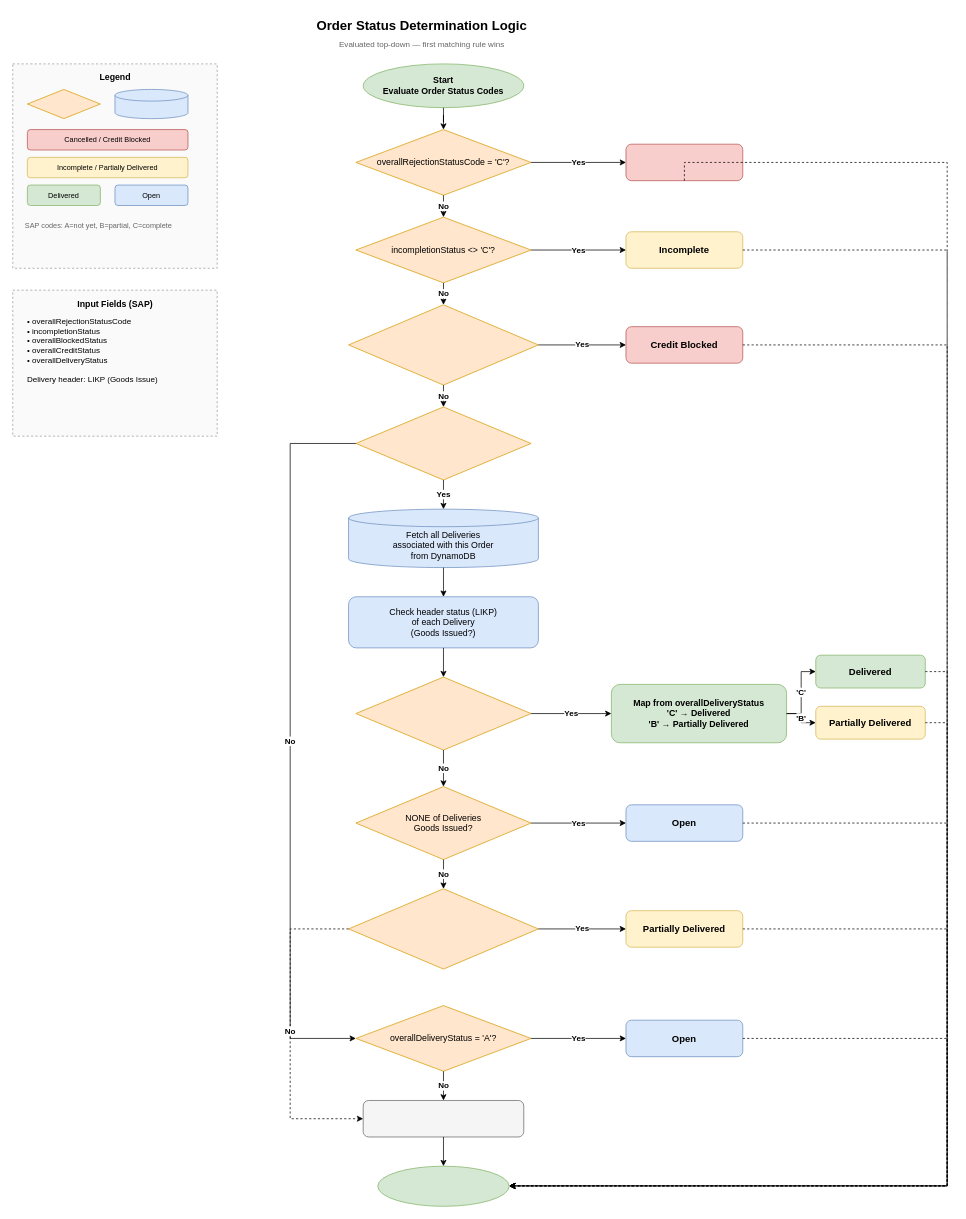
Image size: 966x1219. Some labels were removed from this diagram. The centre of each missing label's shape, as x and y in pixels:
"ALL Deliveries Goods Issued?" belongs at [443,713].
"At least one Delivery is Goods Issued (and not all)?" belongs at [443,928].
"Cancelled" belongs at [684,162].
"Decision" belongs at [63,104].
"DynamoDB" belongs at [151,104].
"End Order Status Set" belongs at [443,1185].
"No rule matched (undefined / keep existing)" belongs at [443,1118].
"overallBlockedStatus = 'C' AND overallCreditStatus = 'B'?" belongs at [443,344].
"overallDeliveryStatus = 'C' OR 'B'?" belongs at [443,443].
